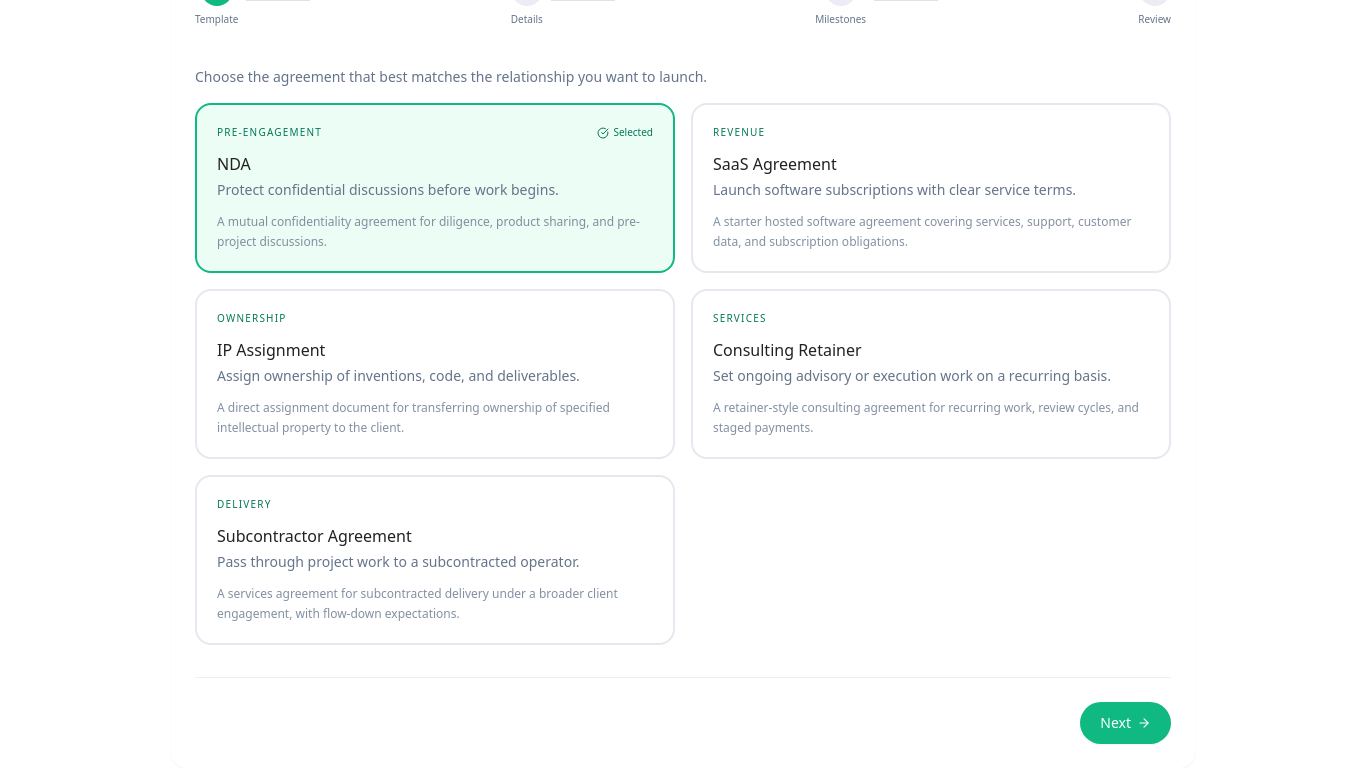
Test case: CreateContract › falls back to wallet-only copy when username resolution is unsupported
(page scrolled)
Click the button "Next" at [1126, 723], box [1080,702,1171,744]
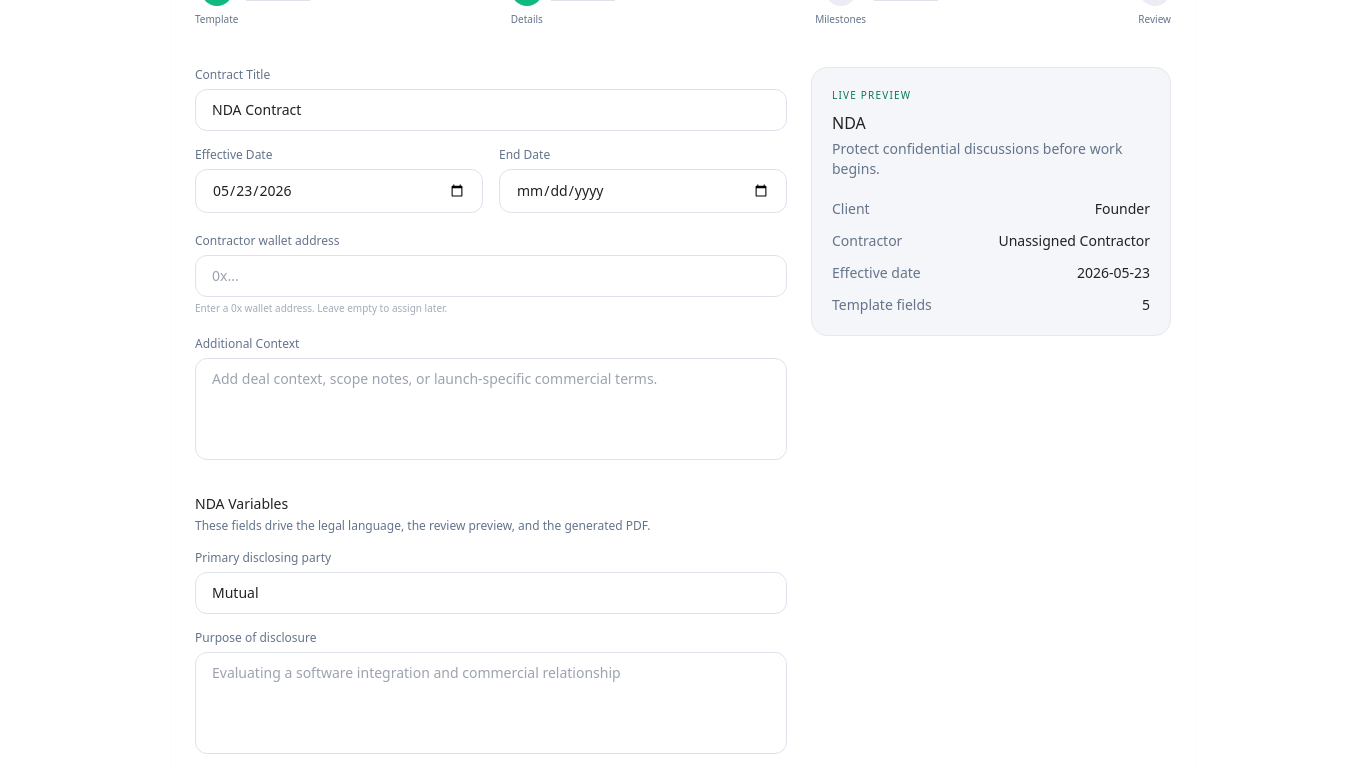
Expected: the field labelled "Contractor wallet address" is shown, [195,255,787,297]
Expected: the text "Enter a 0x wallet address. Leave empty to assign later." is shown, [195,301,447,315]
